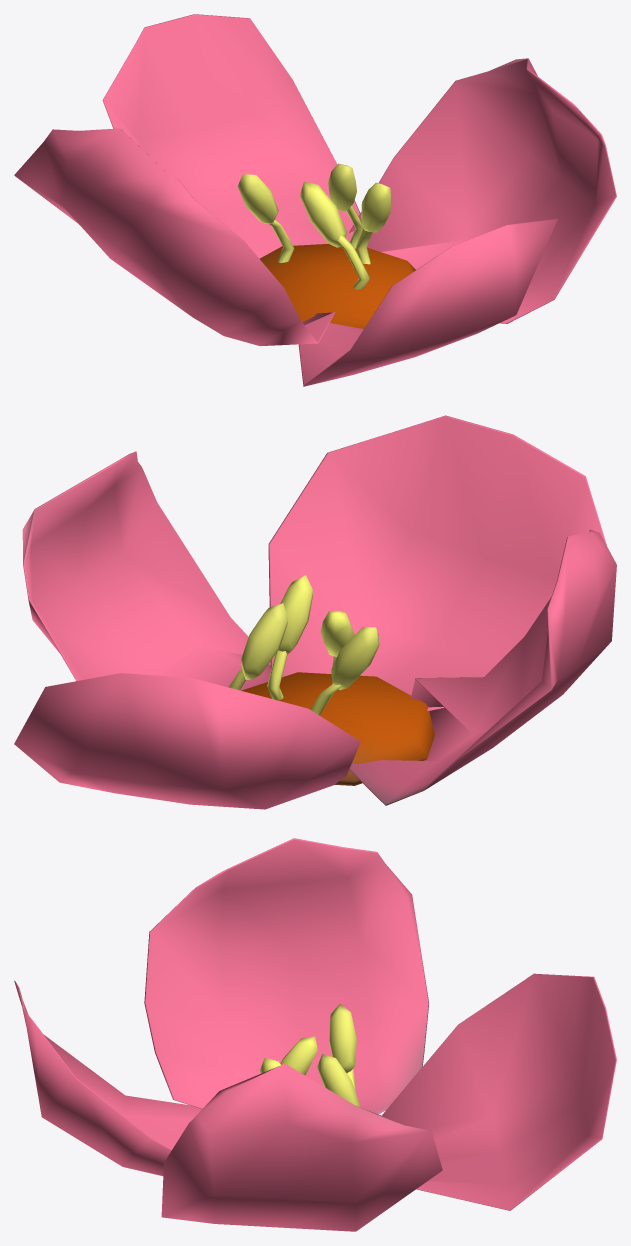
The model's file is AppleFlower.fbx.
3 renders of one model, top to bottom at view 1: azimuth 30°, elevation 25°; view 2: azimuth 150°, elevation 25°; view 3: azimuth 270°, elevation 25°, orthographic. The views are drawn at different scales.
Visible parts, largest first — view 1: pCube7; view 2: pCube7; view 3: pCube7.
Boxes of the visible parts, bbox=[...] form: pCube7: bbox=[14, 14, 616, 386]; pCube7: bbox=[14, 415, 616, 809]; pCube7: bbox=[14, 838, 616, 1231].
Bounding box in the file's own units: 16.82 × 7.56 × 18.34.
